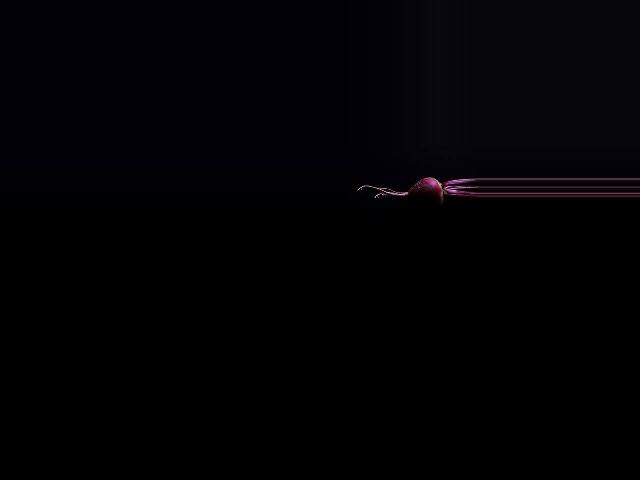beet: (357, 175, 479, 209)
